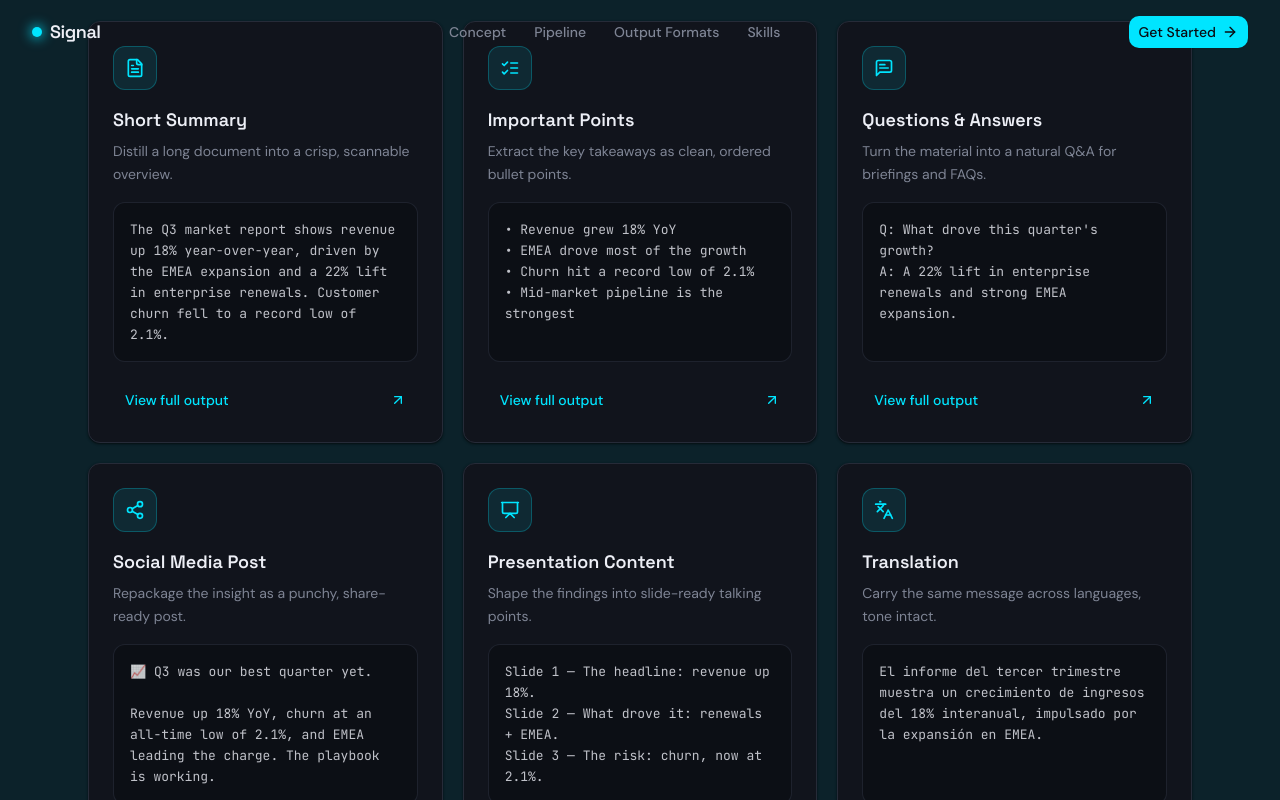
Scenario: GenAI Content Transformation showcase › opens the output format detail dialog from a card
The width and height of the screenshot is (1280, 800).
(page scrolled)
Check: the text "Short Summary" is shown, box [113, 108, 247, 131]
What coordinates should you click on to do the following:
click the button "View full output" below "Short Summary"
I would click on:
 (177, 400)
Its box is [113, 382, 418, 418].
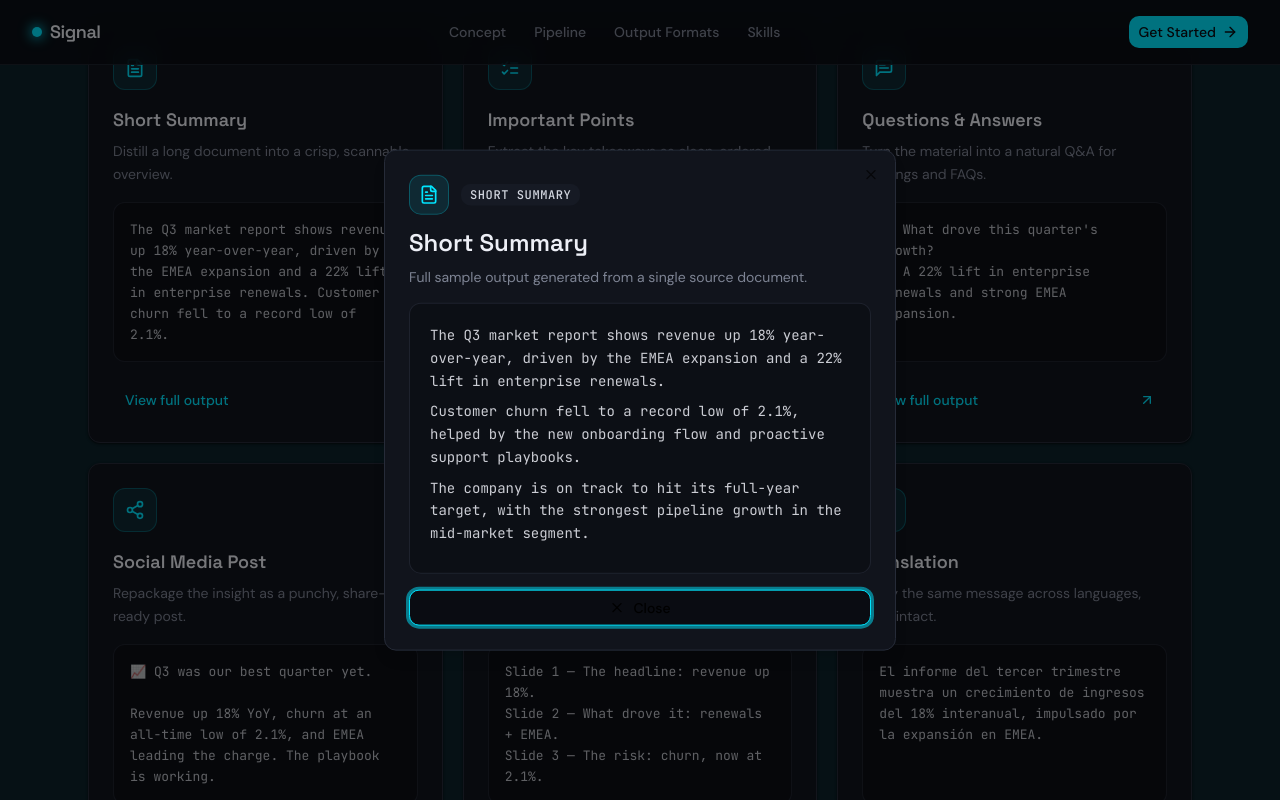
Check: the heading "Short Summary" is shown, box [409, 227, 588, 258]
Check: the text "The Q3 market report shows revenue up 18%" is shown, box [430, 326, 842, 389]
